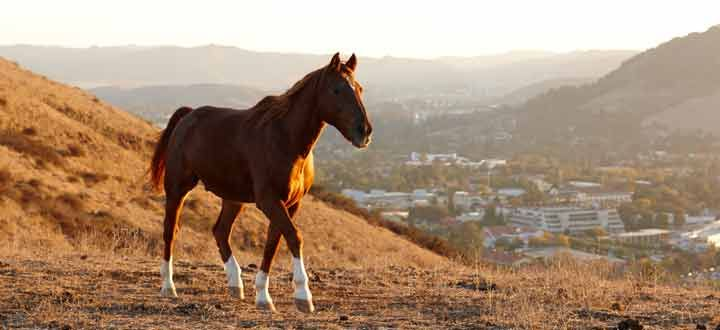Horse: (145, 54, 389, 328)
